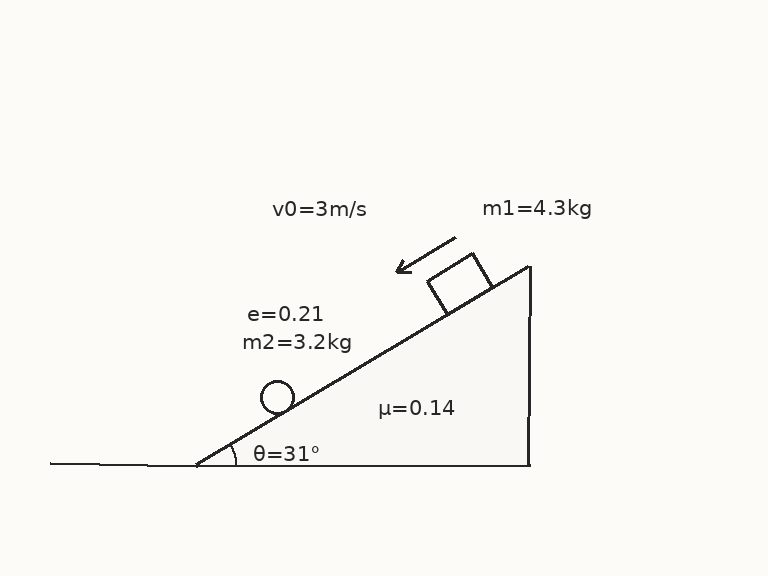ball: (258, 378, 296, 416)
block: (425, 251, 495, 316)
ramp: (194, 263, 531, 467)
